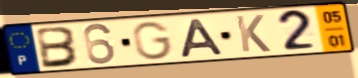2: (274, 8, 322, 55)
6: (82, 22, 118, 67)
A: (177, 17, 227, 59)
B: (35, 26, 82, 71)
G: (130, 20, 175, 62)
K: (233, 13, 273, 54)
